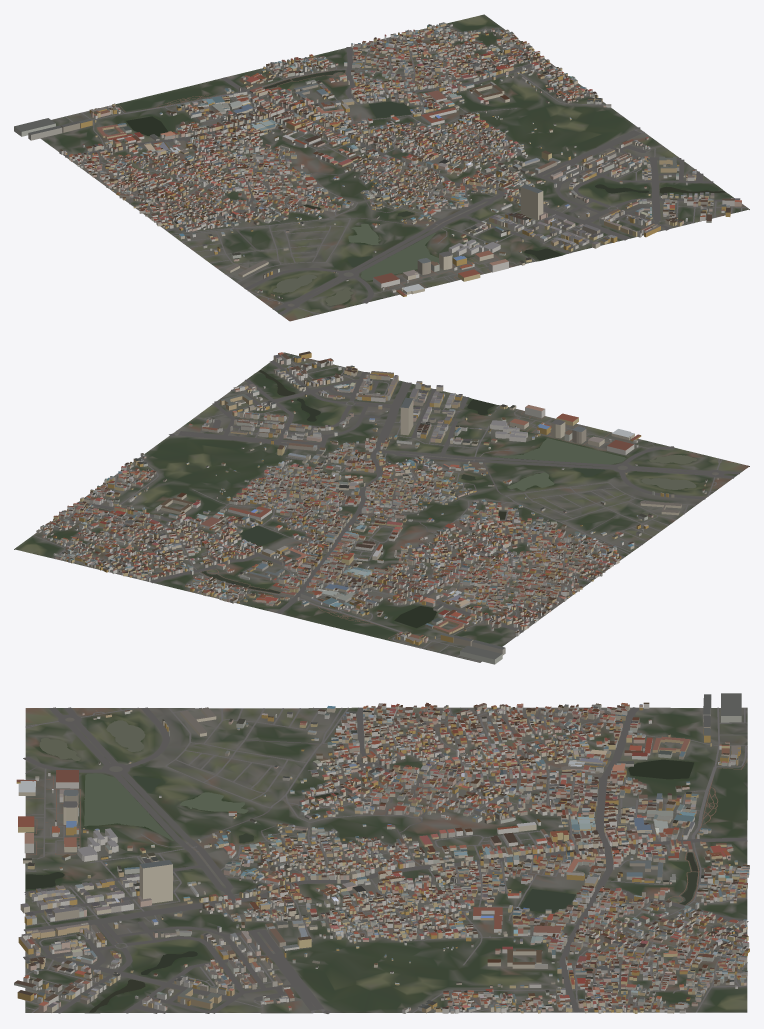
3 renders of one model, top to bottom at view 1: azimuth 30°, elevation 25°; view 2: azimuth 150°, elevation 25°; view 3: azimuth 270°, elevation 25°, orthographic. The views are drawn at different scales.
Parts seen in each view (by area): view 1: buildings, ground, roads, water; view 2: ground, buildings, roads, water; view 3: ground, buildings, roads, water.
Part boxes in pixels (x1,y1,x2,y2): buildings: [14, 22, 741, 303]; ground: [40, 14, 749, 321]; roads: [64, 24, 747, 314]; water: [126, 70, 725, 305]; ground: [14, 352, 749, 662]; buildings: [36, 351, 718, 664]; roads: [33, 354, 740, 662]; water: [135, 370, 696, 627]; ground: [25, 707, 747, 1013]; buildings: [14, 693, 749, 1013]; roads: [23, 707, 748, 1013]; water: [26, 720, 698, 1012].
Size of the model in its own units: 1443 by 82.23 by 1429.
